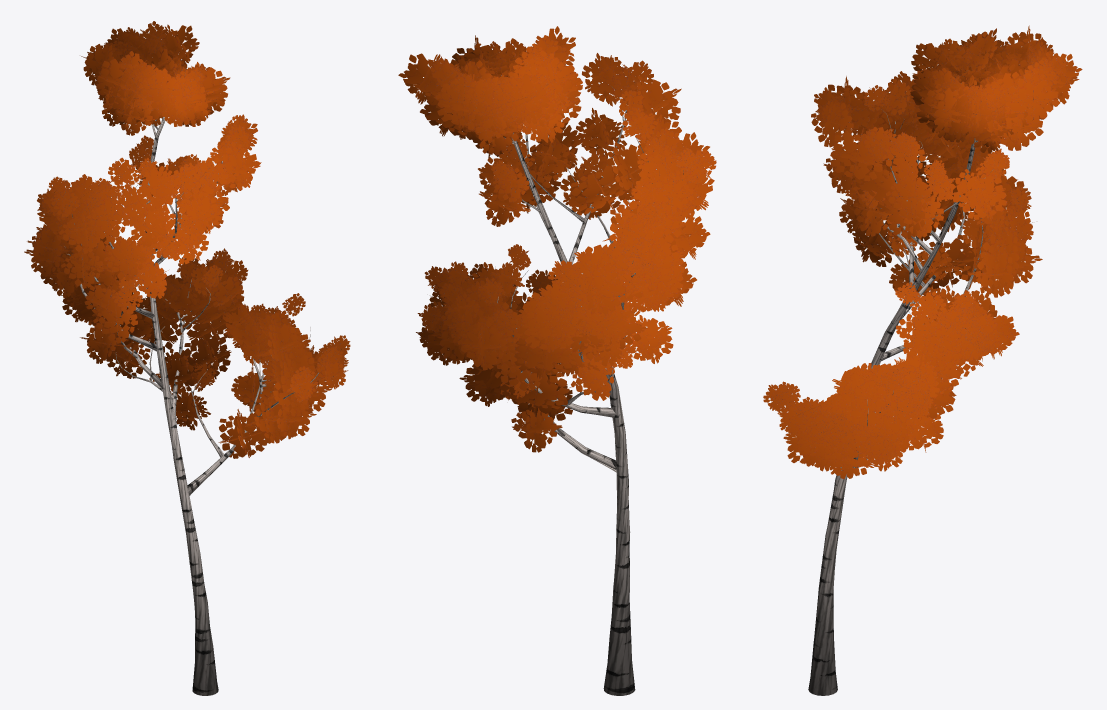
The model's file is tree-health-5-mature.glb.
The picture shows the model from 3 angles, left to right: view 1: azimuth 30°, elevation 25°; view 2: azimuth 150°, elevation 25°; view 3: azimuth 270°, elevation 25°; orthographic projection. The views are drawn at different scales.
Visible parts, largest first — view 1: Birch_5; view 2: Birch_5; view 3: Birch_5.
Part boxes in pixels (x1,y1,x2,y2): Birch_5: (24,21,350,695); Birch_5: (398,26,716,695); Birch_5: (763,25,1082,695).
Bounding box in the file's own units: 3.3 × 6.75 × 3.11.
Materials: 2 (2 with a texture image).
